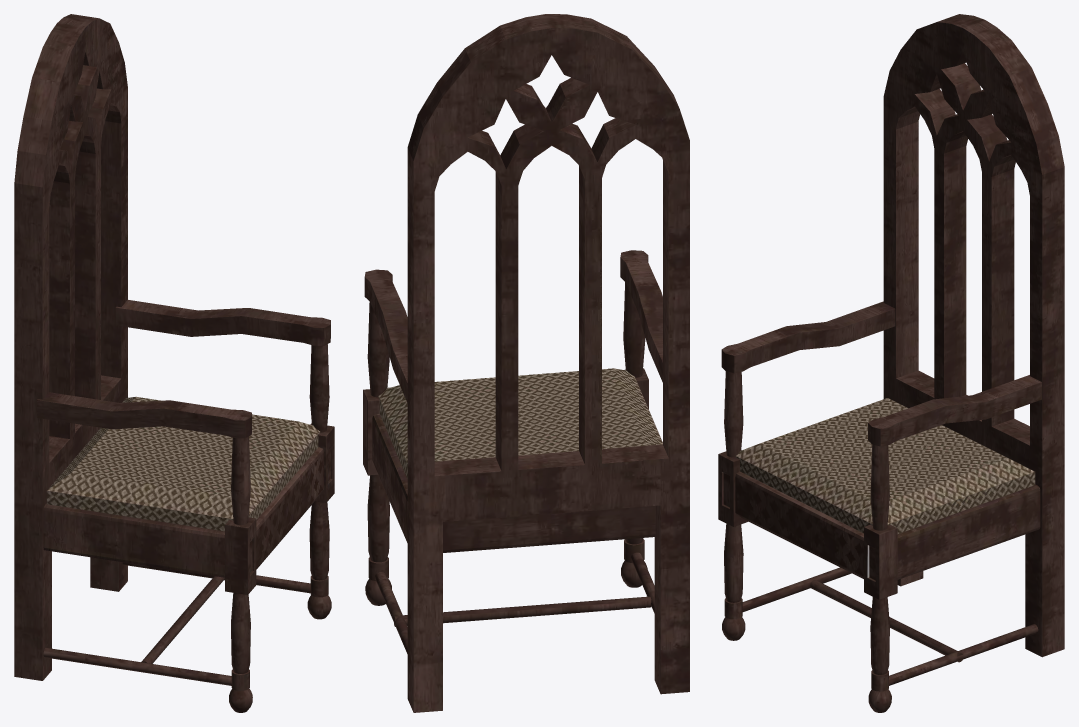
The model's file is Furn_Chair_1.glb.
The picture shows the model from 3 angles, left to right: view 1: azimuth 30°, elevation 25°; view 2: azimuth 150°, elevation 25°; view 3: azimuth 270°, elevation 25°; orthographic projection. The views are drawn at different scales.
Parts seen in each view (by area): view 1: Furn_Chair_1; view 2: Furn_Chair_1; view 3: Furn_Chair_1.
Part boxes in pixels (x1,y1,x2,y2): Furn_Chair_1: [14, 14, 334, 712]; Furn_Chair_1: [363, 14, 689, 712]; Furn_Chair_1: [718, 14, 1064, 712].
Bounding box in the file's own units: 0.6205 × 1.17 × 0.6223.
1 material, 1 textured.
